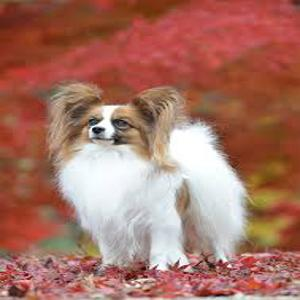yell: (46, 79, 246, 270)
